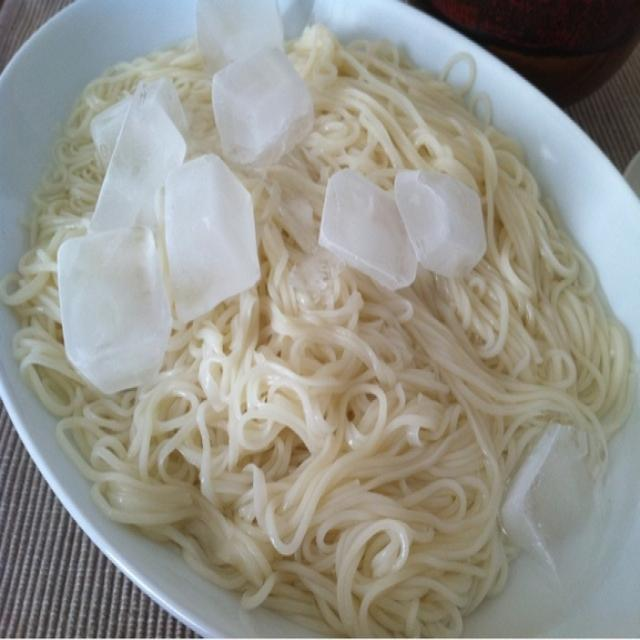面条主食: (11, 5, 628, 628)
